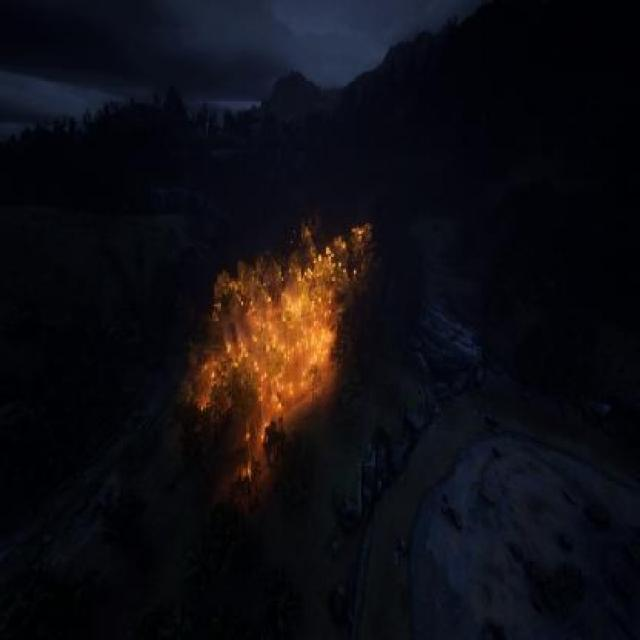Fire: (179, 194, 385, 492)
